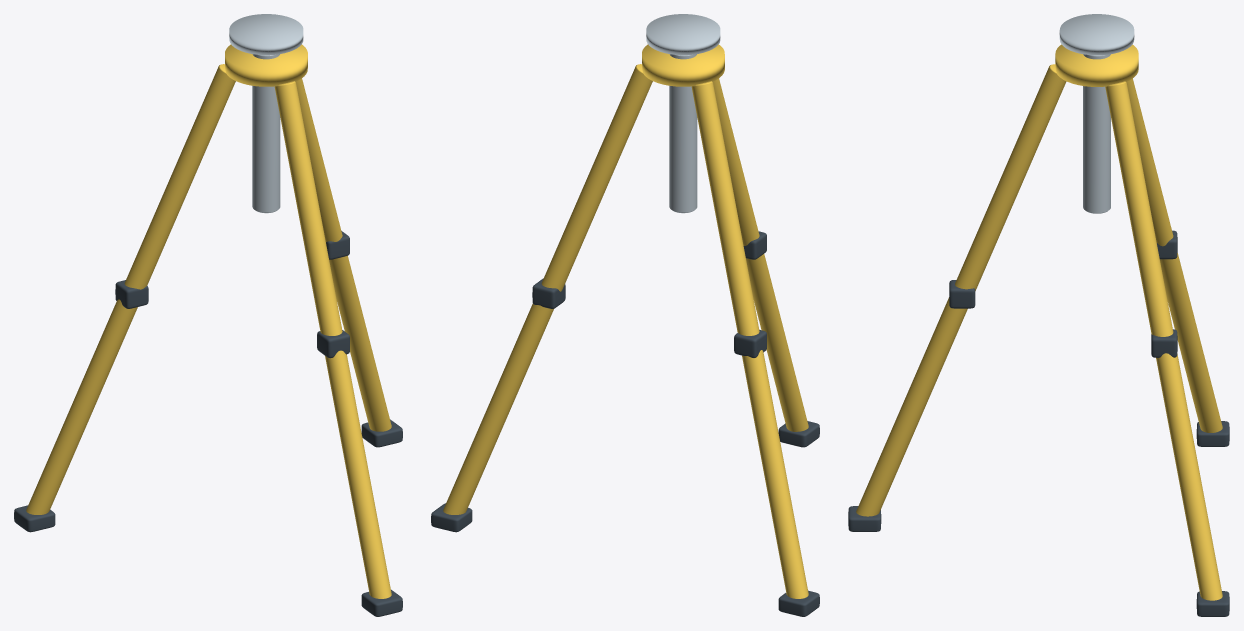
Rendered from survey_tripod.glb.
3 renders of one model, left to right at view 1: azimuth 30°, elevation 25°; view 2: azimuth 150°, elevation 25°; view 3: azimuth 270°, elevation 25°, orthographic.
Visible parts, largest first — view 1: Tripod_Leg_Outer_0, Tripod_Leg_Outer_1, Tripod_Leg_Outer_2, Centre_Post_Outer, Instrument_Mount, Tripod_Head, Tripod_Foot_0, Tripod_Foot_1, Tripod_Foot_2, Tripod_Clamp_1, Tripod_Clamp_0; view 2: Tripod_Leg_Outer_1, Tripod_Leg_Outer_2, Tripod_Leg_Outer_0, Centre_Post_Outer, Instrument_Mount, Tripod_Head, Tripod_Foot_1, Tripod_Foot_2, Tripod_Clamp_1, Tripod_Foot_0, Tripod_Clamp_2; view 3: Tripod_Leg_Outer_2, Tripod_Leg_Outer_0, Tripod_Leg_Outer_1, Centre_Post_Outer, Instrument_Mount, Tripod_Head, Tripod_Foot_2, Tripod_Foot_0, Tripod_Foot_1, Tripod_Clamp_0, Tripod_Clamp_2.
Part boxes in pixels (x1,y1,x2,y2): Tripod_Leg_Outer_0: (274, 81, 391, 598); Tripod_Leg_Outer_1: (26, 64, 235, 514); Tripod_Leg_Outer_2: (296, 78, 391, 431); Centre_Post_Outer: (252, 54, 280, 213); Instrument_Mount: (229, 14, 303, 55); Tripod_Head: (225, 44, 307, 86); Tripod_Foot_0: (361, 589, 402, 616); Tripod_Foot_1: (14, 505, 55, 532); Tripod_Foot_2: (361, 419, 402, 447); Tripod_Clamp_1: (115, 280, 148, 308); Tripod_Clamp_0: (317, 330, 349, 358); Tripod_Leg_Outer_1: (691, 81, 808, 598); Tripod_Leg_Outer_2: (443, 64, 652, 514); Tripod_Leg_Outer_0: (713, 78, 808, 431); Centre_Post_Outer: (669, 54, 697, 213); Instrument_Mount: (646, 14, 720, 55); Tripod_Head: (642, 44, 724, 86); Tripod_Foot_1: (778, 590, 819, 616); Tripod_Foot_2: (431, 503, 472, 532); Tripod_Clamp_1: (734, 330, 766, 357); Tripod_Foot_0: (778, 421, 819, 447); Tripod_Clamp_2: (532, 278, 565, 308); Tripod_Leg_Outer_2: (1105, 81, 1222, 600); Tripod_Leg_Outer_0: (856, 64, 1066, 516); Tripod_Leg_Outer_1: (1126, 78, 1222, 432); Centre_Post_Outer: (1083, 54, 1110, 213); Instrument_Mount: (1059, 14, 1134, 55); Tripod_Head: (1055, 44, 1138, 86); Tripod_Foot_2: (1196, 591, 1229, 616); Tripod_Foot_0: (848, 506, 881, 531); Tripod_Foot_1: (1196, 421, 1229, 446); Tripod_Clamp_0: (949, 280, 975, 308); Tripod_Clamp_2: (1151, 329, 1177, 357).
Size of the model in its own units: 0.993 by 1.25 by 0.87.
